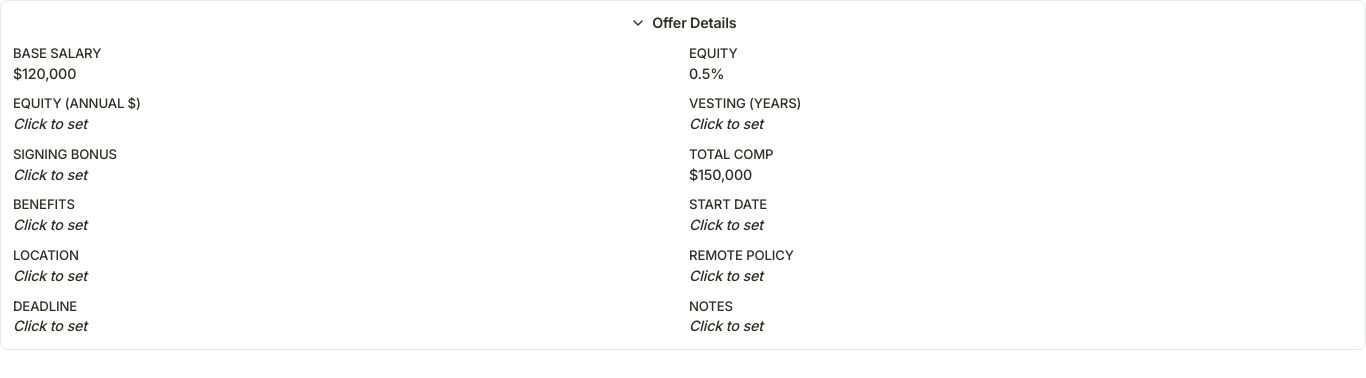
Test: OfferDetailsSection › should enter edit mode on field click
Step 1. Click the button named "Edit Equity" → coordinates (707, 73), box [689, 64, 1353, 84]
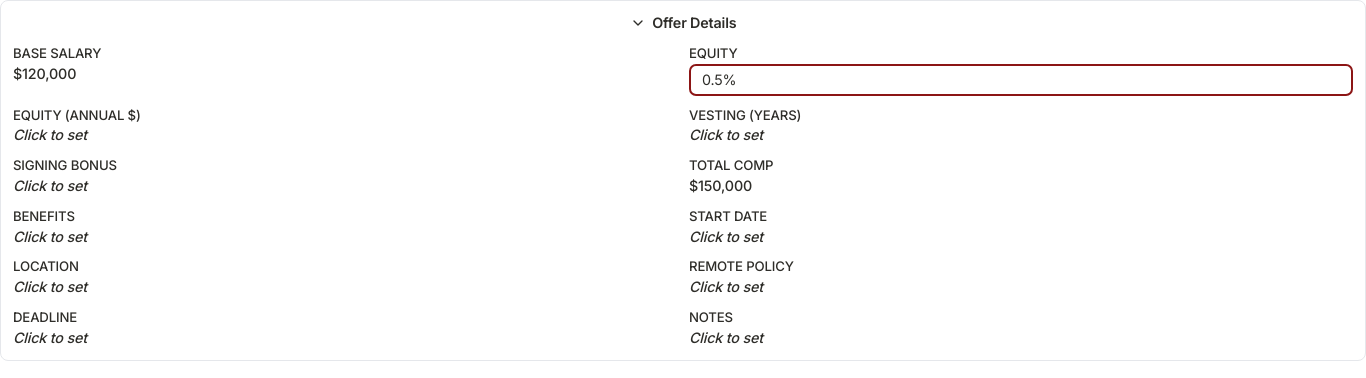
expect the field named "Equity" is shown: met, box [689, 64, 1353, 96]
